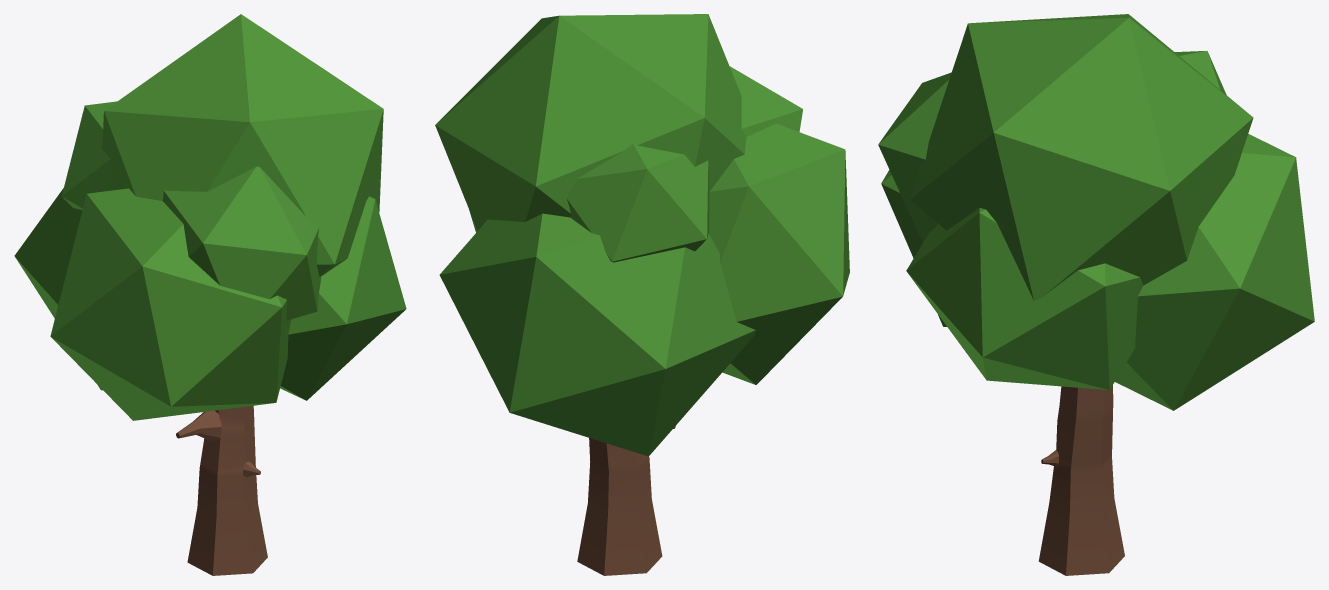
The model's file is Leafy_Tree3.fbx.
3 renders of one model, left to right at view 1: azimuth 30°, elevation 25°; view 2: azimuth 150°, elevation 25°; view 3: azimuth 270°, elevation 25°, orthographic. The views are drawn at different scales.
Visible parts, largest first — view 1: polySurface19; view 2: polySurface19; view 3: polySurface19.
Part boxes in pixels (x1,y1,x2,y2): polySurface19: (14,14,406,575); polySurface19: (435,14,849,575); polySurface19: (878,14,1314,575).
Bounding box in the file's own units: 12.41 × 18.71 × 13.24.
